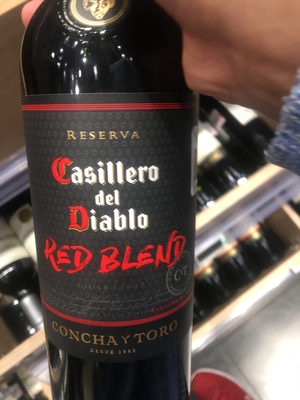casillero del diablo red blend: (12, 11, 216, 400)
